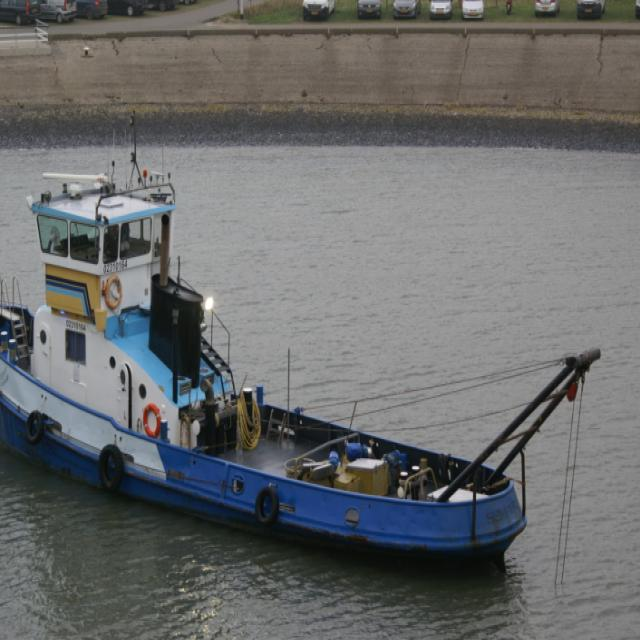tugboat: (1, 159, 607, 587)
